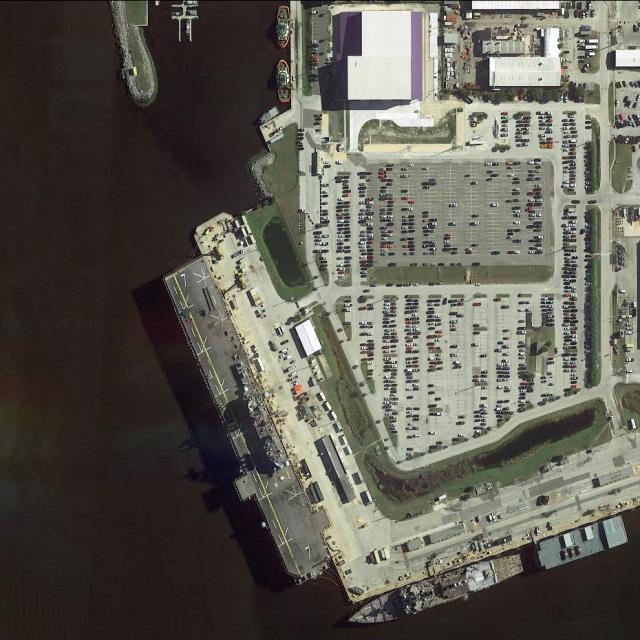Destroyer: (341, 551, 527, 633)
Hovercraft: (277, 59, 291, 103), (277, 6, 290, 49)
Landing: (160, 257, 338, 585)
